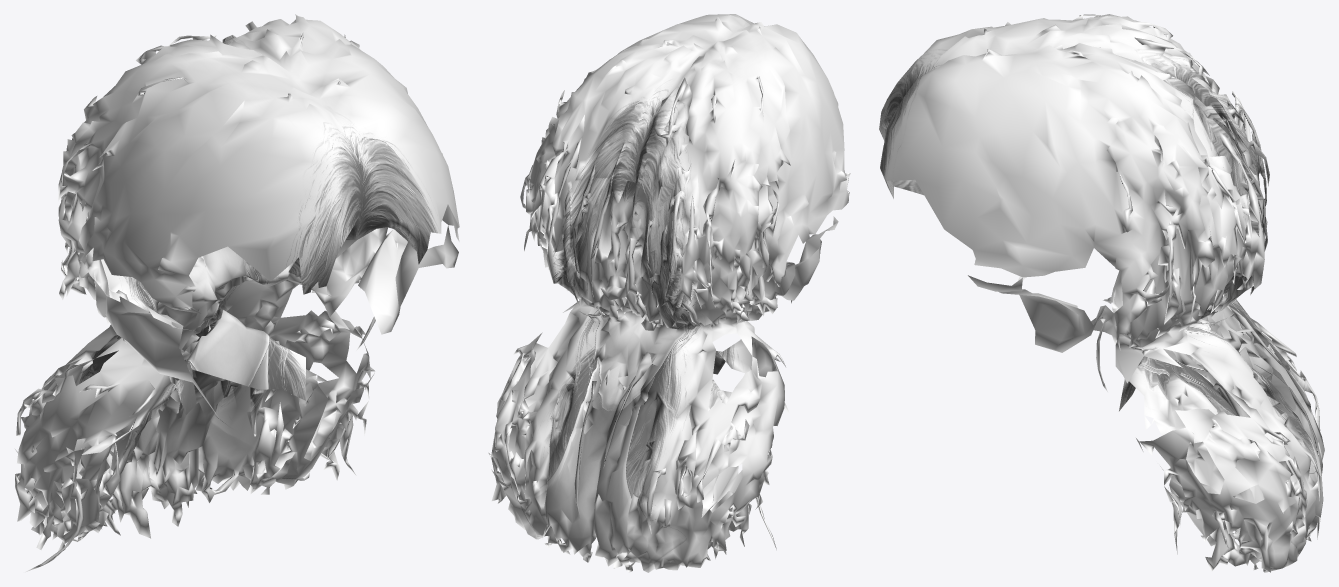
File: hair_tied.glb
The picture shows the model from 3 angles, left to right: view 1: azimuth 30°, elevation 25°; view 2: azimuth 150°, elevation 25°; view 3: azimuth 270°, elevation 25°; orthographic projection. The views are drawn at different scales.
Visible parts, largest first — view 1: hair; view 2: hair; view 3: hair.
Part boxes in pixels (left/top/right/bottom): hair: left=15, top=14, right=459, bottom=572; hair: left=488, top=14, right=850, bottom=572; hair: left=879, top=14, right=1324, bottom=572.
Size of the model in its own units: 0.2542 by 0.4078 by 0.3208.
Materials: 1 (1 with a texture image).
